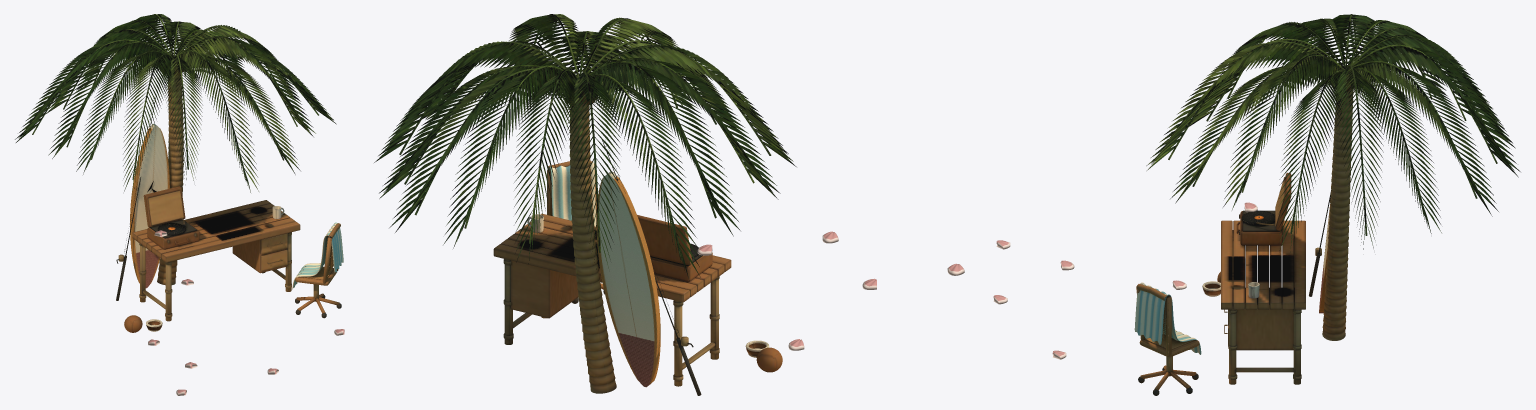
File: decor.glb
The picture shows the model from 3 angles, left to right: view 1: azimuth 30°, elevation 25°; view 2: azimuth 150°, elevation 25°; view 3: azimuth 270°, elevation 25°; orthographic projection. The views are drawn at different scales.
Visible parts, largest first — view 1: decor__BakedMesh, decor__Surfboard, decor__Chair; view 2: decor__BakedMesh, decor__Surfboard, decor__Chair; view 3: decor__BakedMesh, decor__Chair.
Boxes of the visible parts, x1=… form: decor__BakedMesh: x1=15, y1=14, x2=336, y2=332; decor__Surfboard: x1=130, y1=123, x2=169, y2=288; decor__Chair: x1=292, y1=222, x2=343, y2=318; decor__BakedMesh: x1=374, y1=14, x2=796, y2=395; decor__Surfboard: x1=596, y1=171, x2=660, y2=387; decor__Chair: x1=547, y1=161, x2=604, y2=303; decor__BakedMesh: x1=1146, y1=14, x2=1520, y2=384; decor__Chair: x1=1134, y1=282, x2=1201, y2=395.
Bounding box in the file's own units: 5.38 × 4.6 × 7.2.
Materials: 3 (1 with a texture image).
